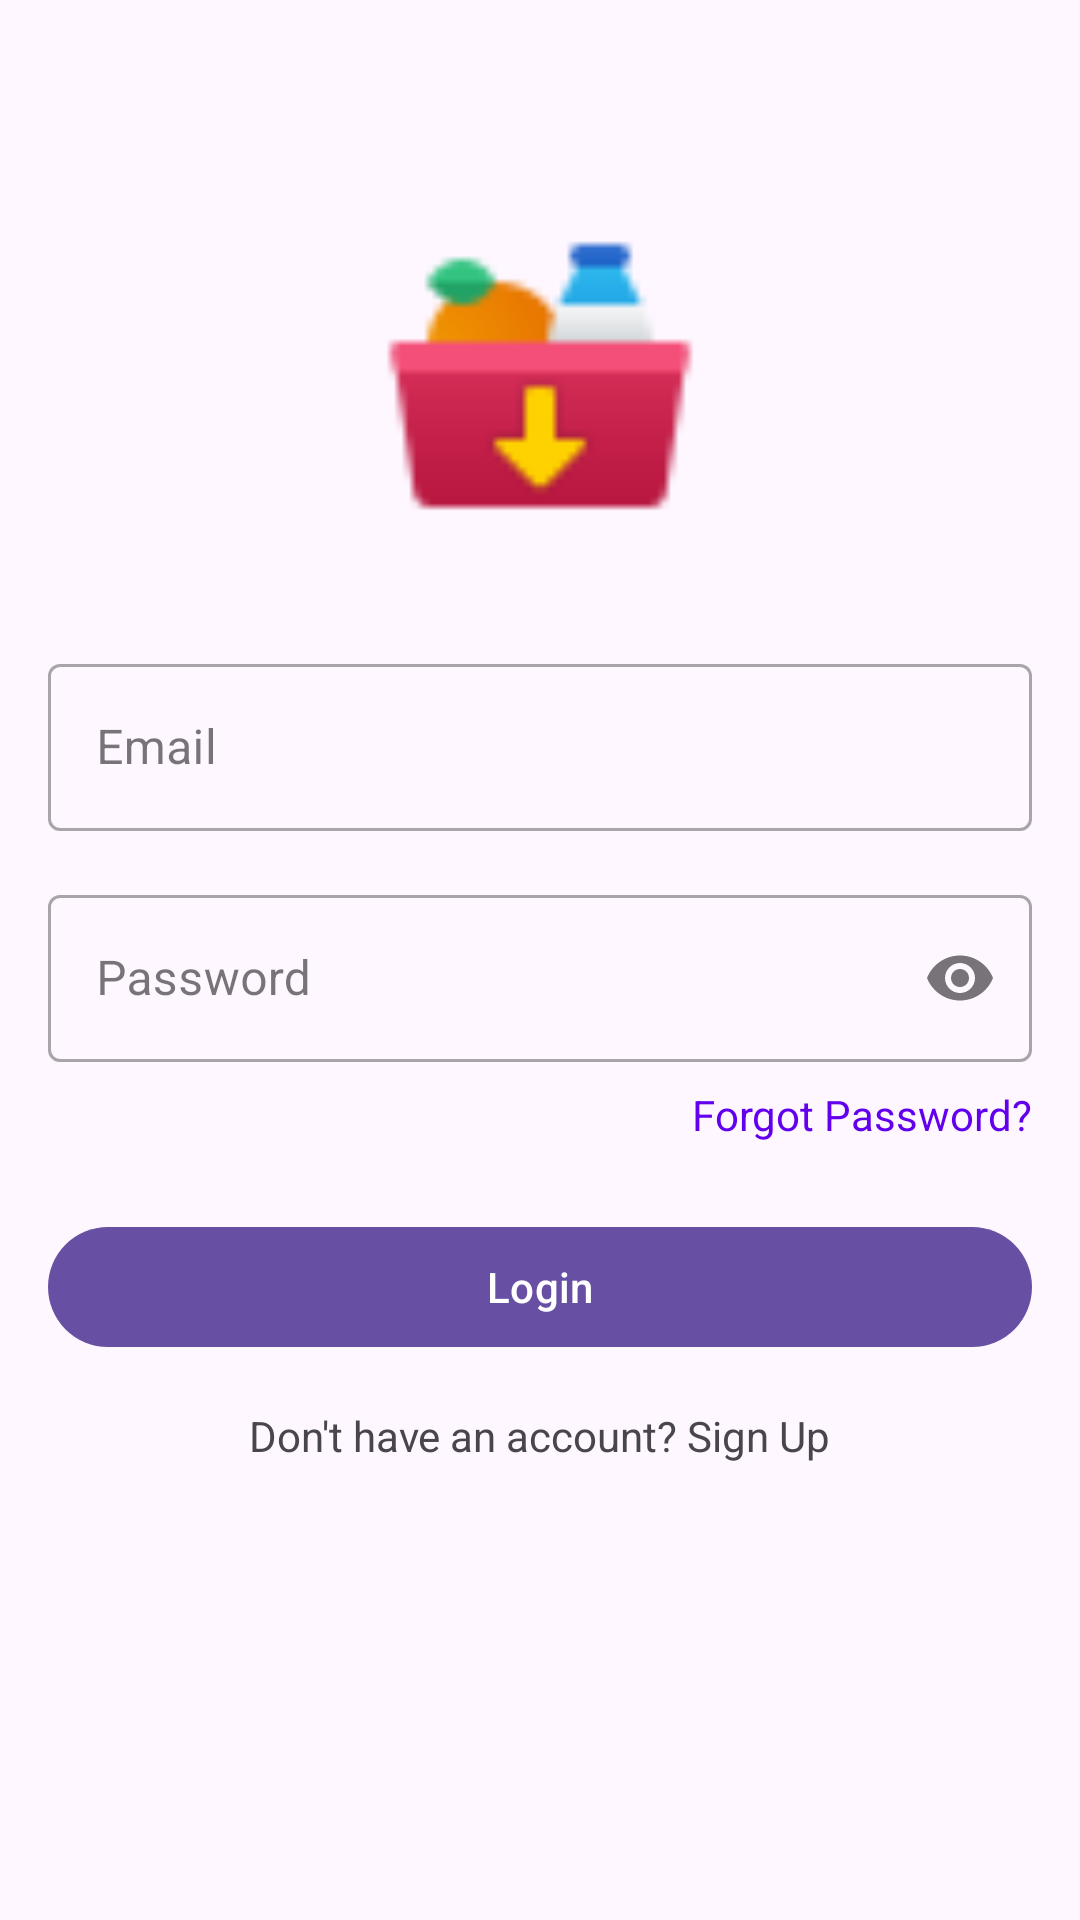

Icons on this 1080w x 1920h Android screen, each with its box as (x1, y1, x2, y2):
food donation: (388, 242, 692, 510)
